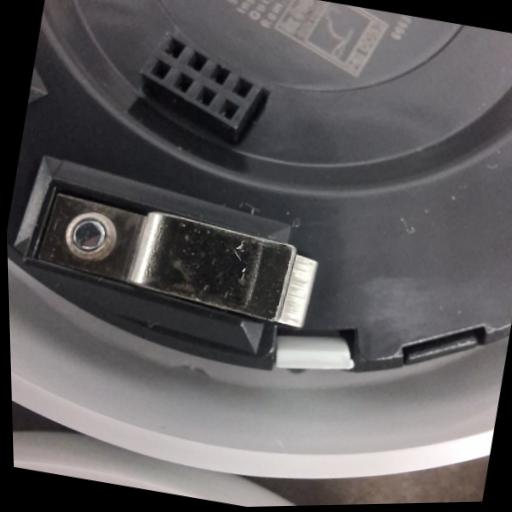yayli: (19, 177, 322, 336)
